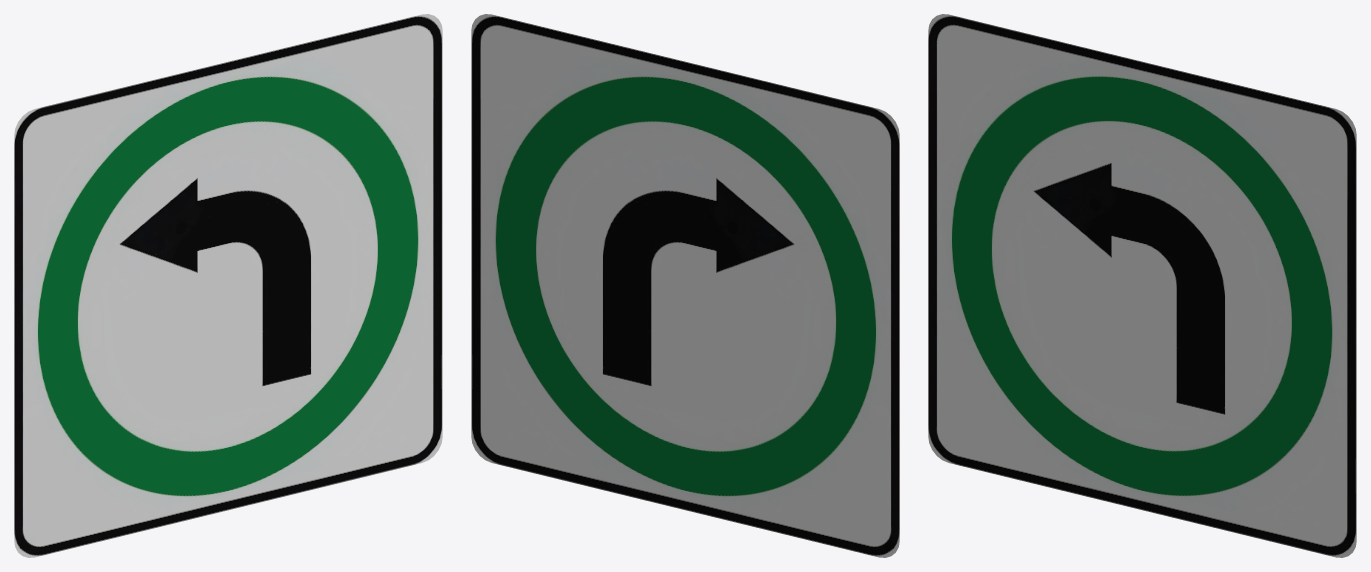
Rendered from verde_left.gltf.
3 views of the same model, side by side, from view 1: azimuth 30°, elevation 25°; view 2: azimuth 150°, elevation 25°; view 3: azimuth 330°, elevation 25° (orthographic).
Visible parts, largest first — view 1: verde_left; view 2: verde_left; view 3: verde_left.
Part boxes in pixels (box(x1,y1,x2,y2)): verde_left: box(14, 14, 442, 557); verde_left: box(471, 14, 899, 557); verde_left: box(928, 14, 1356, 557).
Bounding box in the file's own units: 1.51 × 1.51 × 3.36e-16.
Materials: 1 (1 with a texture image).
